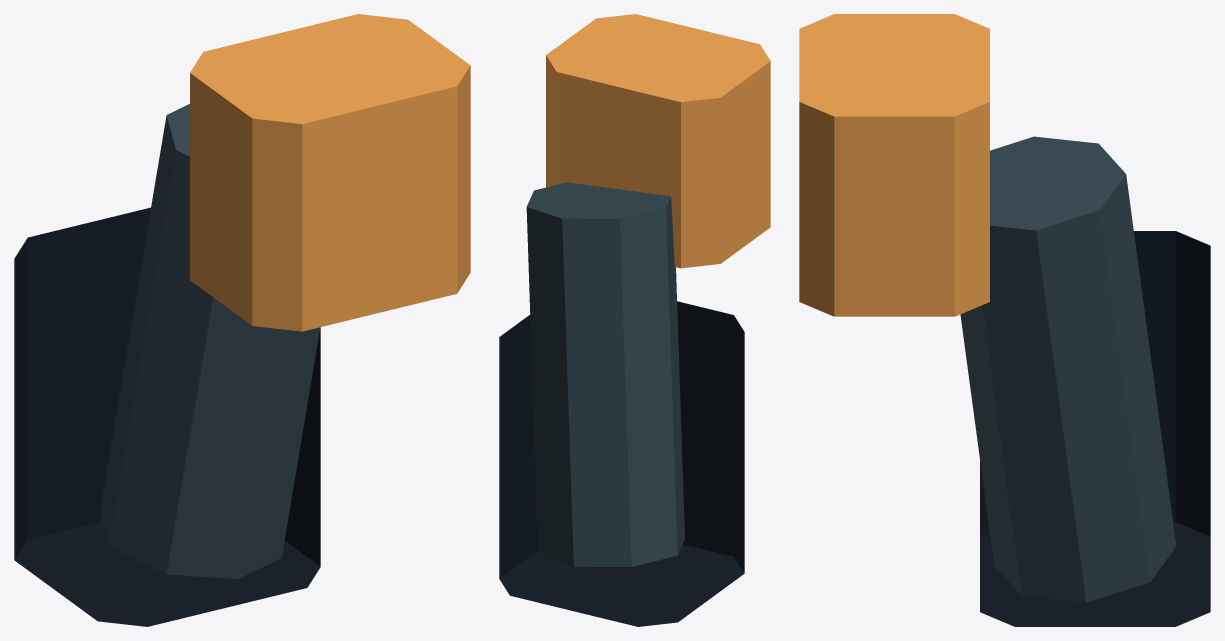
Rendered from enemy_runner_lod_shin_r.obj.
The picture shows the model from 3 angles, left to right: view 1: azimuth 30°, elevation 25°; view 2: azimuth 150°, elevation 25°; view 3: azimuth 270°, elevation 25°; orthographic projection. The views are drawn at different scales.
Size of the model in its own units: 0.3097 by 0.59 by 0.41.
